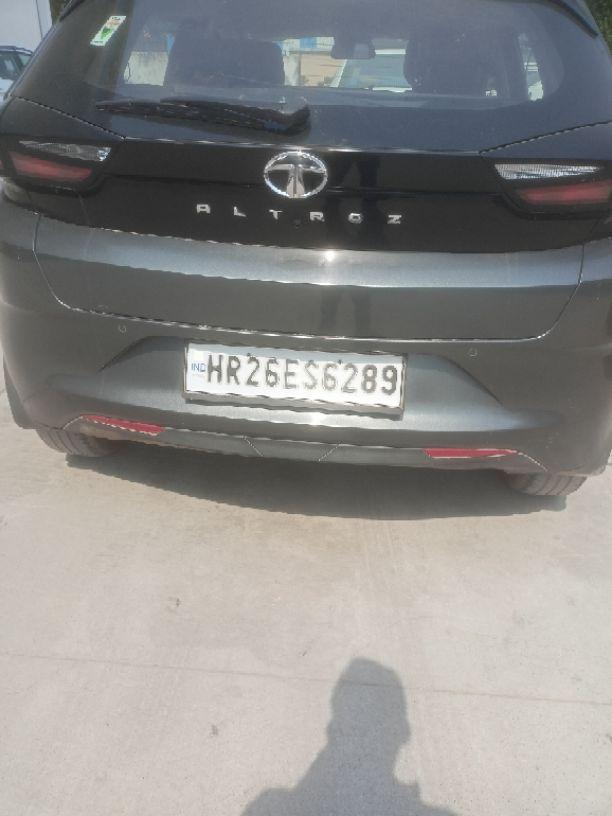license_plate: (180, 338, 406, 416)
